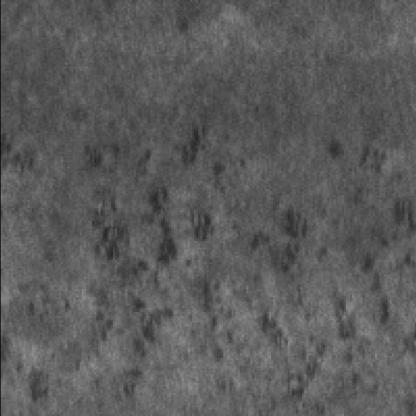rolled-in_scale: (48, 140, 291, 404), (245, 176, 416, 378)
